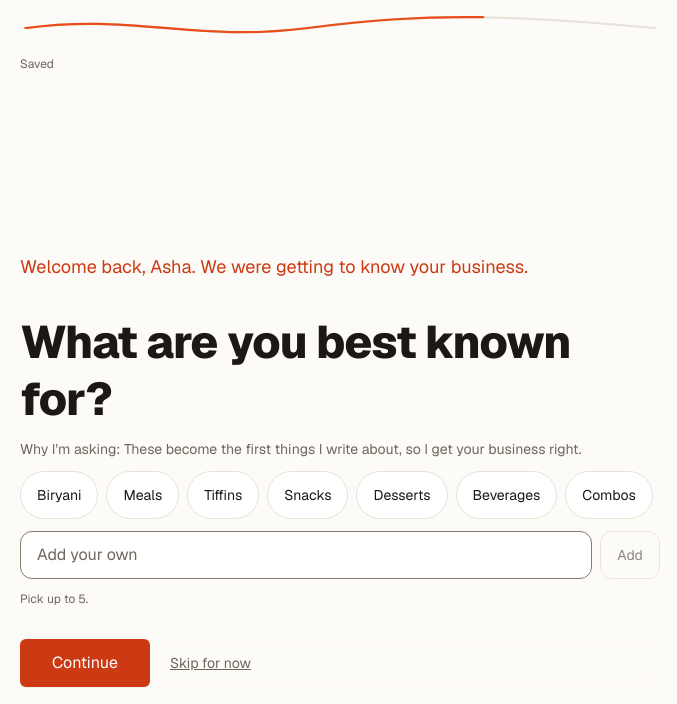
Test case: ConversationShell › validation and skipping › limits a list to five choices
The image size is (677, 704).
What coordinates should you click on to do the following:
click the button "Biryani"
I would click on:
 (59, 495)
Its box is [20,471,98,519].
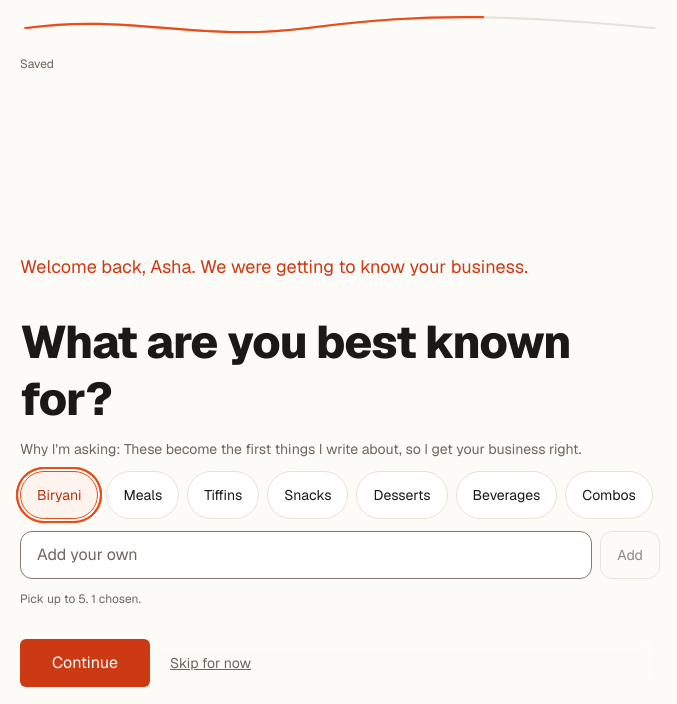
What coordinates should you click on to do the following:
click the button "Meals"
I would click on:
 (143, 495)
Its box is [106,471,179,519].
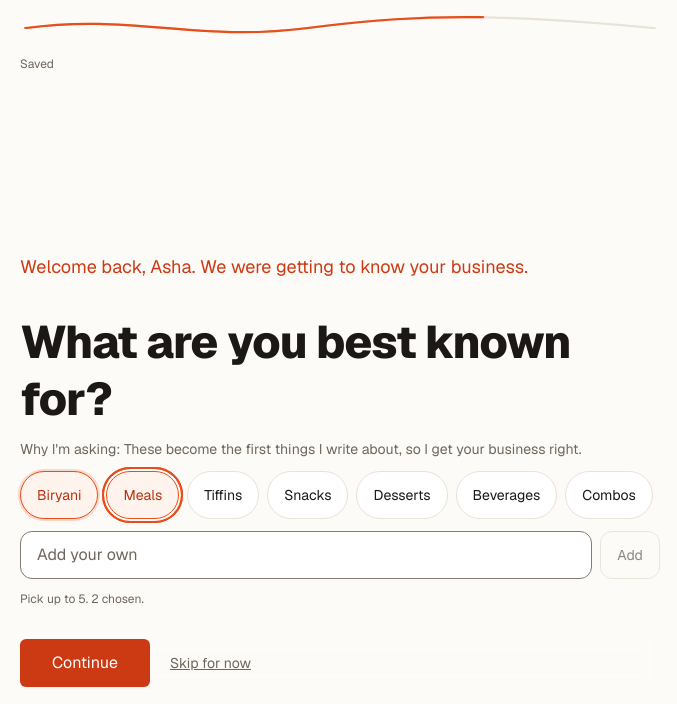
What coordinates should you click on to do the following:
click the button "Tiffins"
I would click on:
 (223, 495)
Its box is [187,471,259,519].
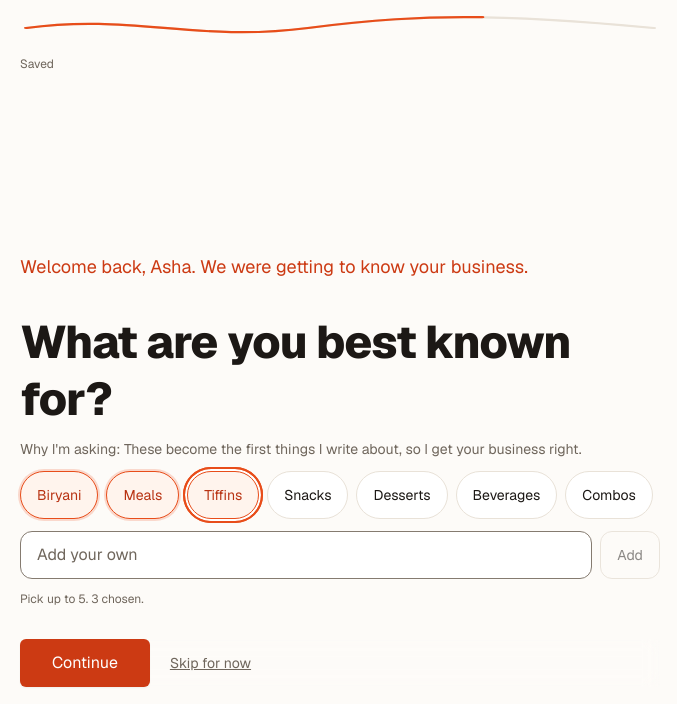
What coordinates should you click on to do the following:
click the button "Snacks"
I would click on:
 (308, 495)
Its box is [267,471,348,519].
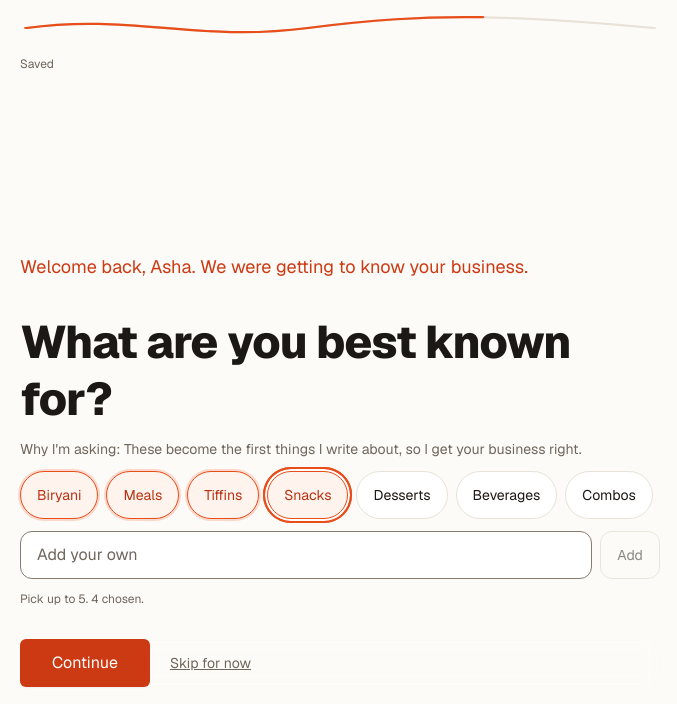
What coordinates should you click on to do the following:
click the button "Desserts"
I would click on:
 (402, 495)
Its box is [356,471,448,519].
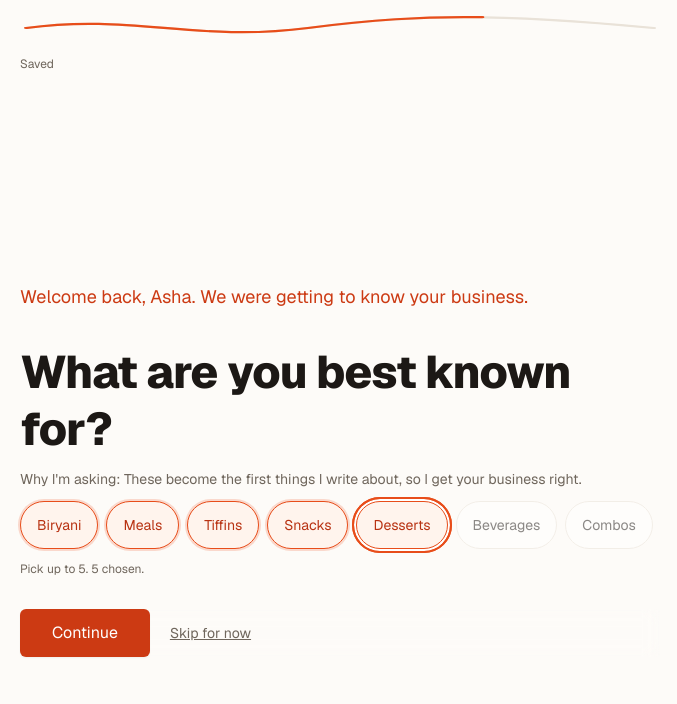
Expected: the button "Beverages" is disabled, [456,501,557,549]
